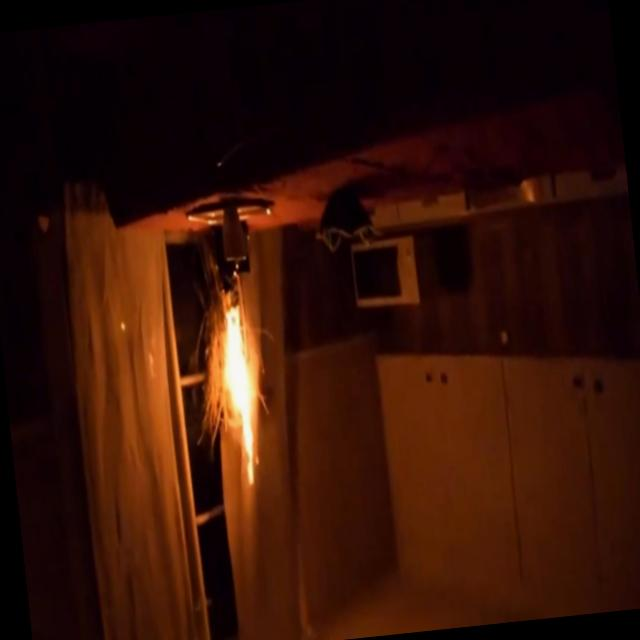fire: (178, 260, 300, 524)
